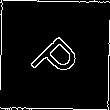P_NE: (24, 24, 86, 86)
